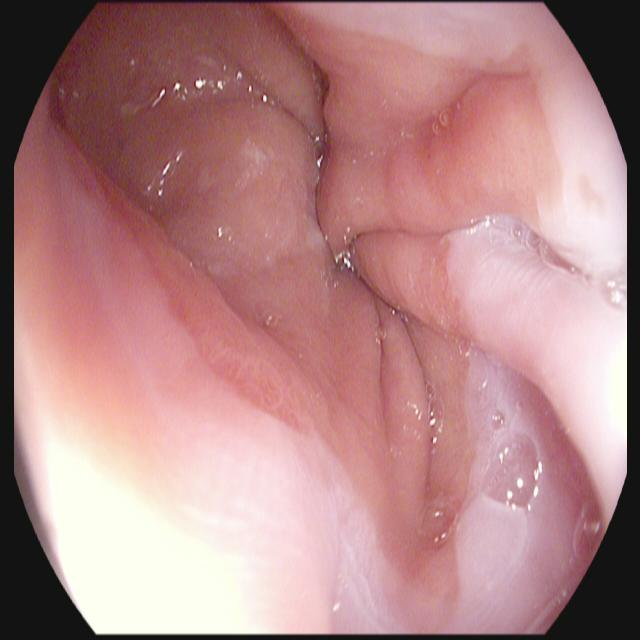Normal-Z-Line: (35, 0, 566, 640)
